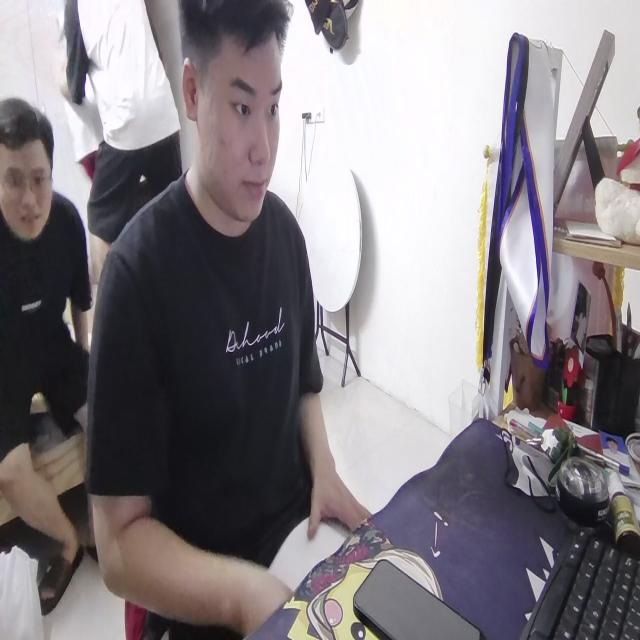book: (266, 508, 354, 587)
extra_person: (0, 92, 99, 590), (69, 0, 180, 237)
phone: (354, 557, 481, 640)
student: (85, 0, 383, 638)
